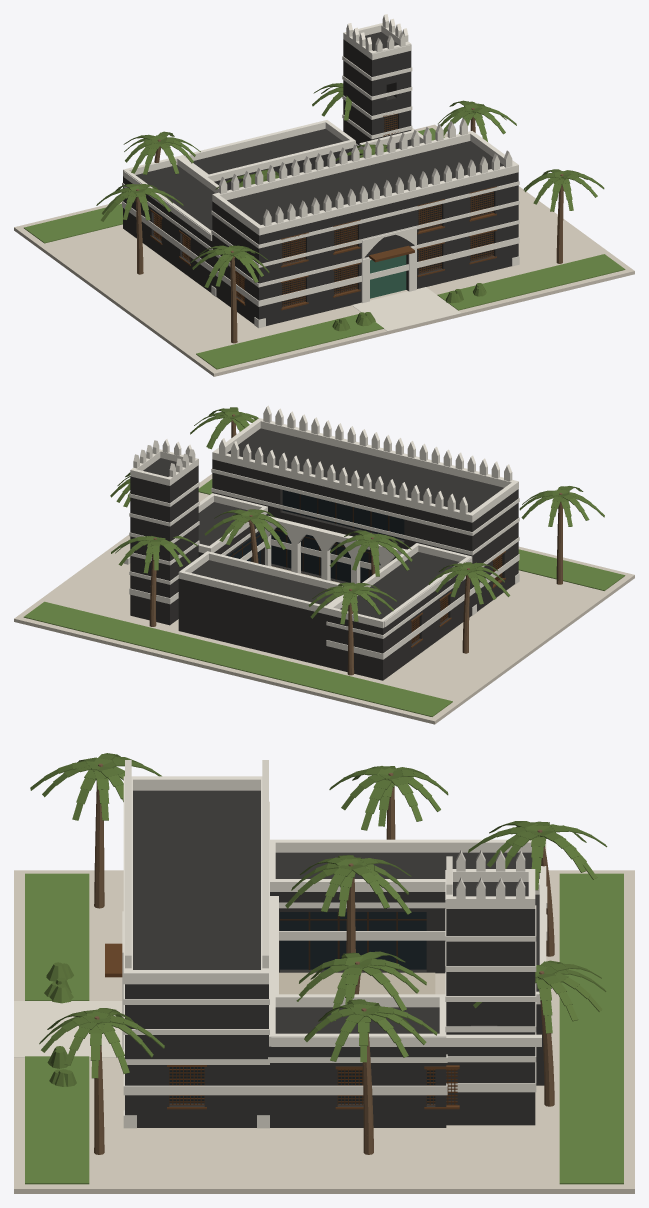
The model's file is madani.glb.
3 views of the same model, one above another, from view 1: azimuth 30°, elevation 25°; view 2: azimuth 150°, elevation 25°; view 3: azimuth 270°, elevation 25° (orthographic). The views are drawn at different scales.
Visible parts, largest first — view 1: Madani_basalt, Madani_white, Madani_pave, Madani_lawn, Madani_leaf, Madani_lattice, Madani_coping, Madani_glass, Madani_wood, Madani_trunk, Madani_door; view 2: Madani_basalt, Madani_white, Madani_pave, Madani_lawn, Madani_leaf, Madani_glass, Madani_trunk, Madani_frame, Madani_lattice; view 3: Madani_basalt, Madani_pave, Madani_white, Madani_lawn, Madani_leaf, Madani_glass, Madani_trunk, Madani_coping, Madani_court, Madani_lattice, Madani_wood, Madani_frame.
Part boxes in pixels (x1=…): Madani_basalt: x1=123, y1=32, x2=518, y2=325; Madani_white: x1=122, y1=14, x2=519, y2=328; Madani_pave: x1=14, y1=124, x2=634, y2=376; Madani_lawn: x1=24, y1=128, x2=625, y2=369; Madani_leaf: x1=96, y1=83, x2=604, y2=331; Madani_lattice: x1=153, y1=113, x2=493, y2=307; Madani_coping: x1=352, y1=287, x2=461, y2=331; Madani_glass: x1=157, y1=114, x2=492, y2=305; Madani_wood: x1=150, y1=113, x2=496, y2=310; Madani_trunk: x1=135, y1=108, x2=563, y2=343; Madani_door: x1=370, y1=255, x2=406, y2=298; Madani_basalt: x1=130, y1=428, x2=518, y2=680; Madani_white: x1=124, y1=405, x2=519, y2=659; Madani_pave: x1=14, y1=474, x2=634, y2=724; Madani_lawn: x1=23, y1=479, x2=625, y2=716; Madani_leaf: x1=110, y1=407, x2=604, y2=624; Madani_glass: x1=227, y1=490, x2=498, y2=639; Madani_trunk: x1=149, y1=414, x2=562, y2=675; Madani_frame: x1=230, y1=494, x2=394, y2=579; Madani_lattice: x1=411, y1=555, x2=502, y2=643; Madani_basalt: x1=125, y1=790, x2=544, y2=1127; Madani_pave: x1=14, y1=870, x2=634, y2=1193; Madani_white: x1=122, y1=760, x2=547, y2=1128; Madani_lawn: x1=25, y1=873, x2=623, y2=1184; Madani_leaf: x1=30, y1=753, x2=607, y2=1086; Madani_glass: x1=169, y1=912, x2=435, y2=1103; Madani_trunk: x1=94, y1=763, x2=554, y2=1154; Madani_coping: x1=14, y1=1001, x2=123, y2=1057; Madani_court: x1=279, y1=972, x2=435, y2=994; Madani_lattice: x1=169, y1=1067, x2=457, y2=1105; Madani_wood: x1=105, y1=943, x2=459, y2=1109; Madani_frame: x1=280, y1=912, x2=426, y2=969.
Size of the model in its own units: 34 by 12.45 by 28.
